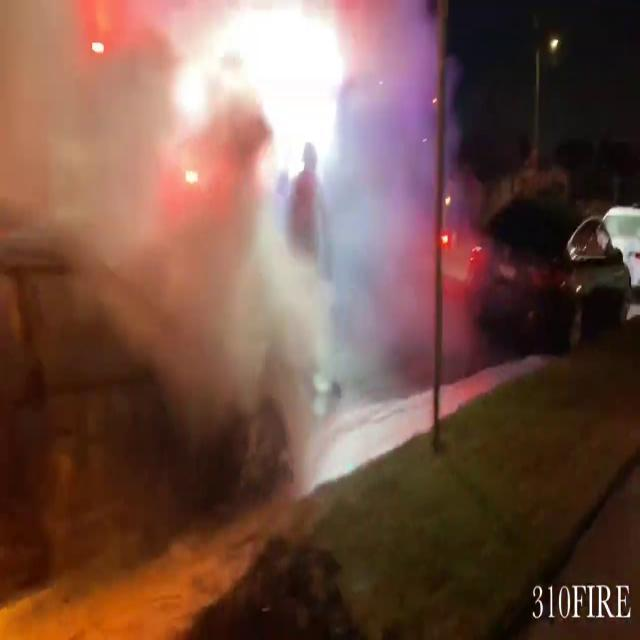Smoke: (0, 1, 398, 508)
